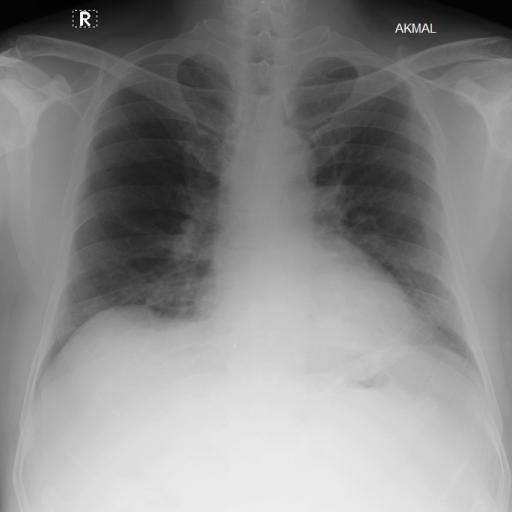kardiomegali: (28, 18, 495, 409)
